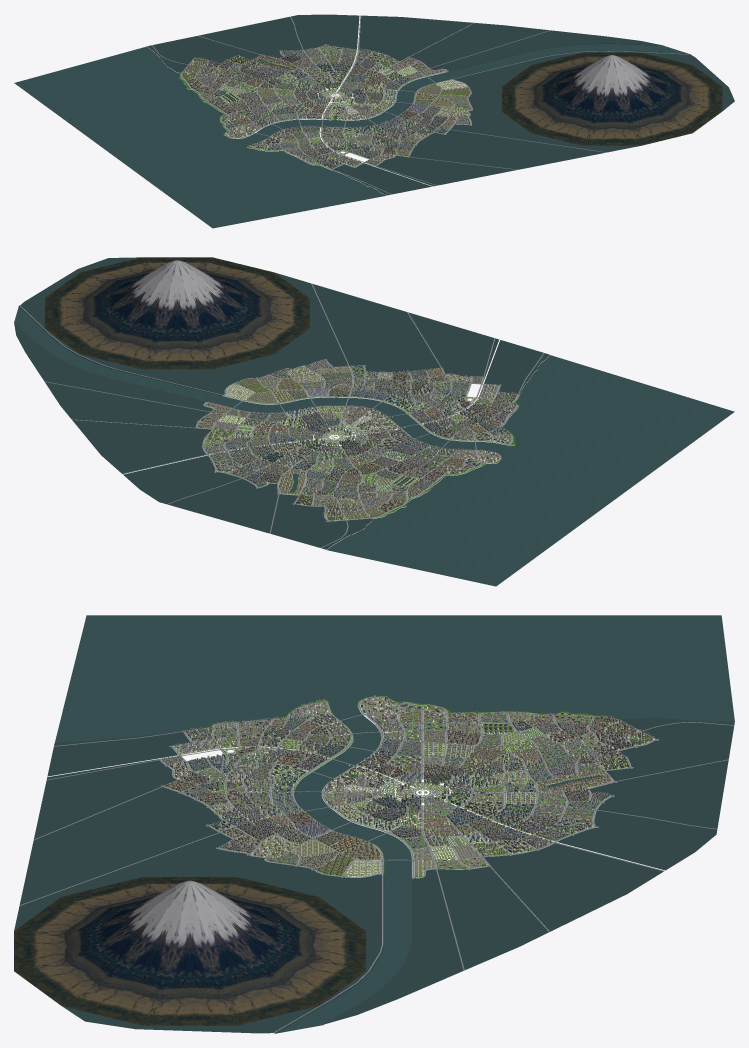
Rendered from city_pack_free.glb.
3 views of the same model, one above another, from view 1: azimuth 30°, elevation 25°; view 2: azimuth 150°, elevation 25°; view 3: azimuth 270°, elevation 25° (orthographic). The views are drawn at different scales.
Visible parts, largest first — view 1: Material3 (×32), Material2 (×3); view 2: Material3 (×25), Material2 (×3); view 3: Material3 (×38), Material2 (×3).
Part boxes in pixels (x1,y1,x2,y2): Material3 (×32): [14, 14, 734, 228]; Material2 (×3): [152, 16, 722, 194]; Material3 (×25): [14, 257, 734, 586]; Material2 (×3): [19, 257, 544, 547]; Material3 (×38): [14, 615, 734, 1033]; Material2 (×3): [14, 697, 733, 1033].
Size of the model in its own units: 38.46 by 3 by 27.99.
Materials: 99 (98 with a texture image).
